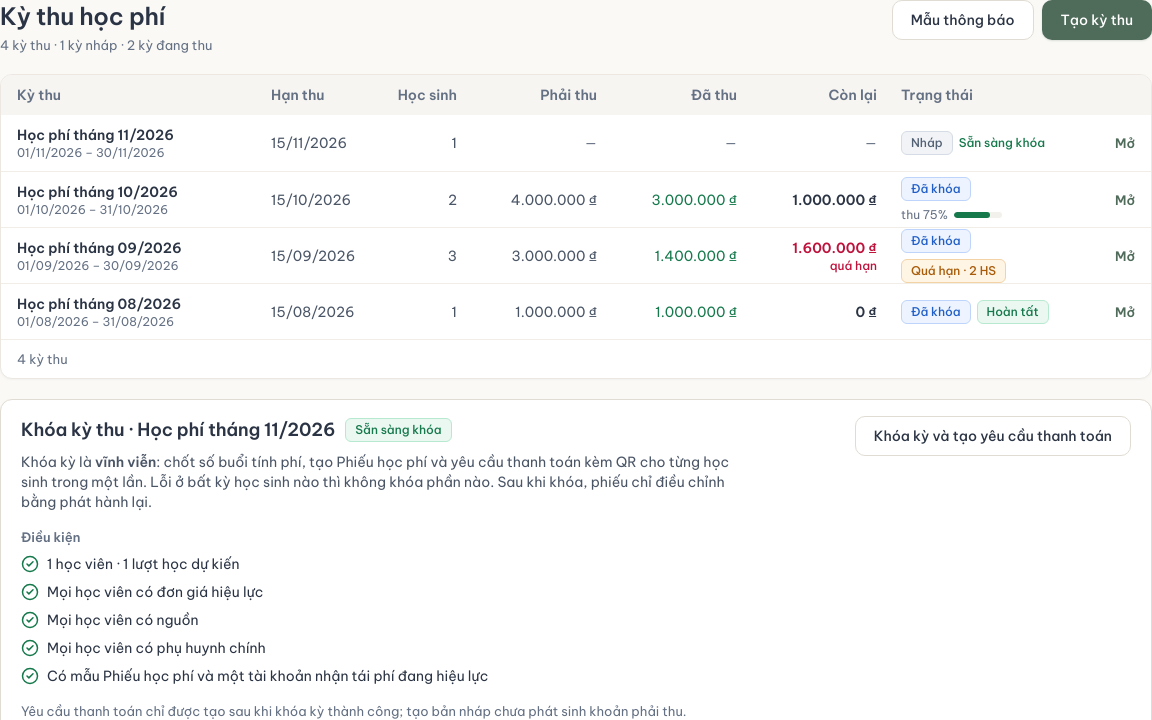
Test case: TuitionPeriodDirectory › does not claim a lock outcome when the request itself failed, and refreshes the list
The width and height of the screenshot is (1152, 720).
Click the button "Khóa kỳ và tạo yêu cầu thanh toán". click: x=993, y=436
box: [855,416,1131,456]
(page scrolled)
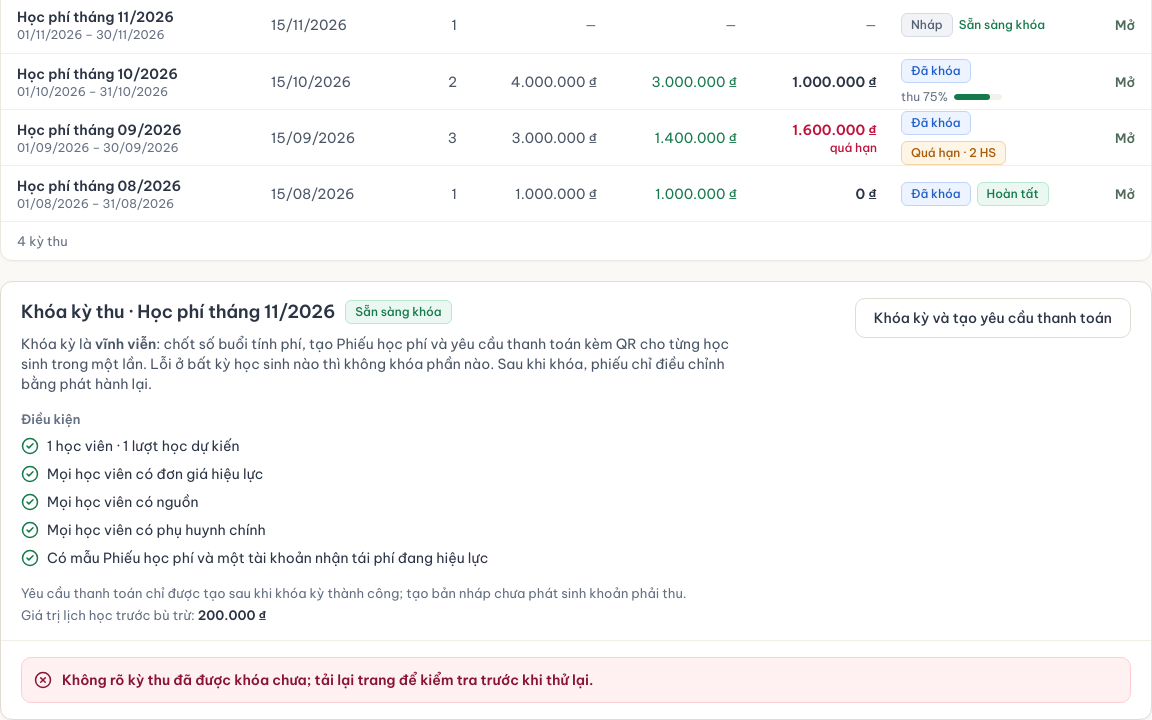
Now the message reads "Không rõ kỳ thu đã được khóa chưa; tải lại trang để kiểm tra trước khi thử lại.", box [62,671,594,689]
